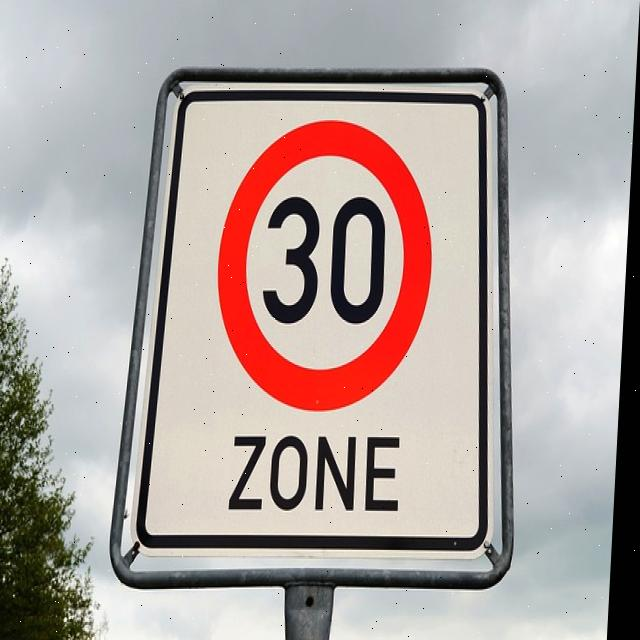Speed limit 30: (214, 118, 443, 413)
